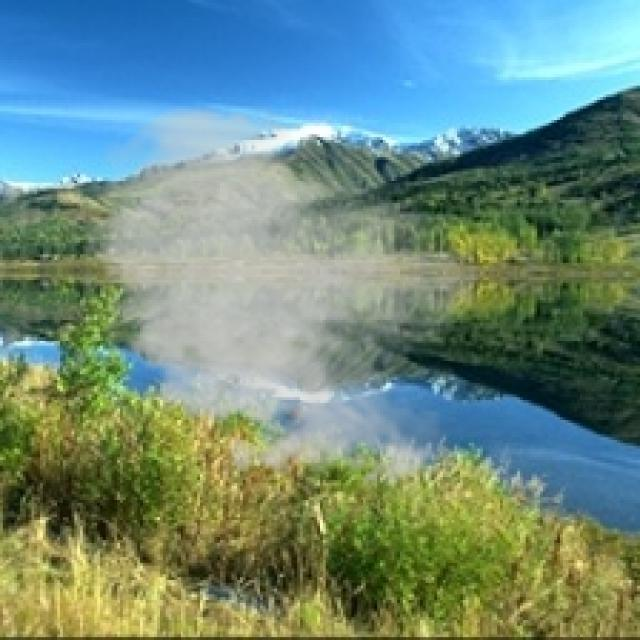Smoke: (71, 97, 480, 500)
